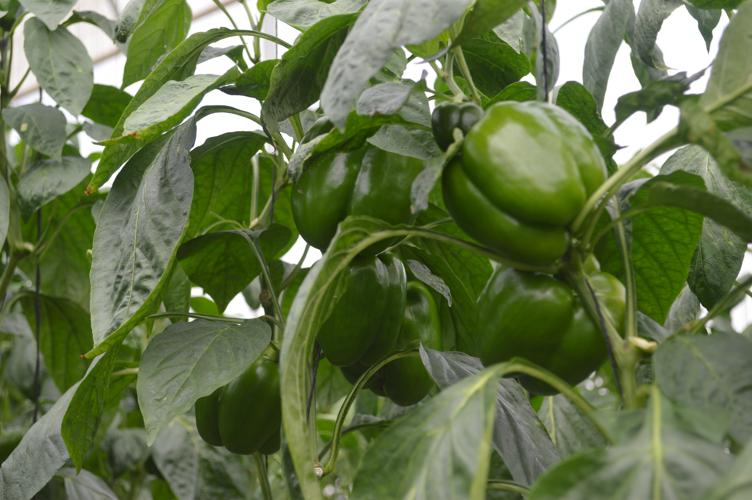BellPepper: (451, 102, 595, 266), (467, 267, 623, 391), (287, 117, 423, 254), (339, 282, 439, 403), (316, 250, 405, 363), (191, 351, 284, 459), (435, 102, 482, 148)
